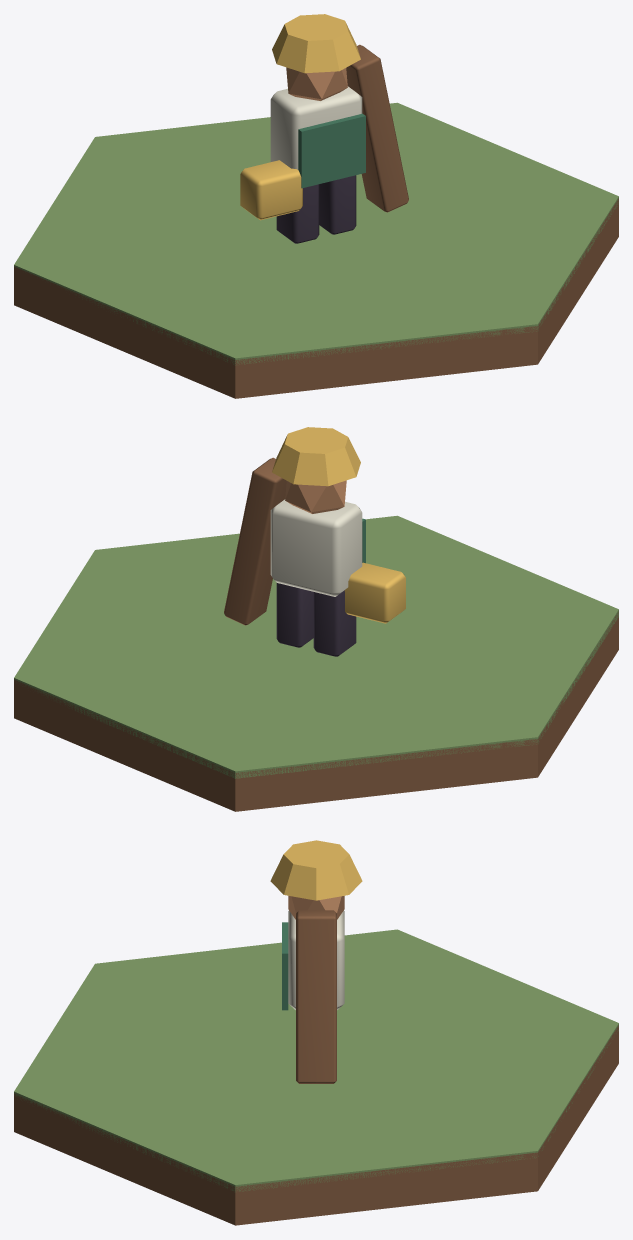
The model's file is builder.glb.
3 views of the same model, one above another, from view 1: azimuth 30°, elevation 25°; view 2: azimuth 150°, elevation 25°; view 3: azimuth 270°, elevation 25° (orthographic).
Parts seen in each view (by area): view 1: Cone.247, Cone.246, Cube.064, Cone.248, Cube.063, Cube.062, Cube.065, Cube.061, Cube.060, Icosphere.153; view 2: Cone.247, Cone.246, Cube.062, Cube.064, Cone.248, Cube.065, Cube.060, Cube.061, Icosphere.153; view 3: Cone.247, Cone.246, Cube.064, Cone.248, Cube.062, Icosphere.153, Cube.063.
Part boxes in pixels (x1,y1,x2,y2): Cone.247: (14, 102, 618, 365); Cone.246: (14, 198, 618, 398); Cube.064: (346, 44, 408, 212); Cone.248: (272, 14, 360, 73); Cube.063: (298, 113, 365, 188); Cube.062: (270, 86, 362, 169); Cube.065: (240, 160, 302, 220); Cube.061: (319, 175, 356, 234); Cube.060: (276, 184, 319, 243); Icosphere.153: (286, 67, 347, 100); Cone.247: (14, 515, 618, 778); Cone.246: (14, 612, 618, 811); Cube.062: (270, 499, 362, 596); Cube.064: (224, 457, 286, 625); Cone.248: (272, 427, 360, 486); Cube.065: (344, 562, 405, 623); Cube.060: (313, 590, 356, 656); Cube.061: (276, 583, 313, 647); Icosphere.153: (285, 480, 346, 513); Cone.247: (14, 929, 618, 1192); Cone.246: (14, 1025, 618, 1225); Cube.064: (296, 910, 336, 1083); Cone.248: (270, 840, 362, 900); Cube.062: (288, 910, 344, 1009); Icosphere.153: (288, 896, 344, 919); Cube.063: (282, 922, 288, 1010).
Bounding box in the file's own units: 3.67 × 1.63 × 3.67.
